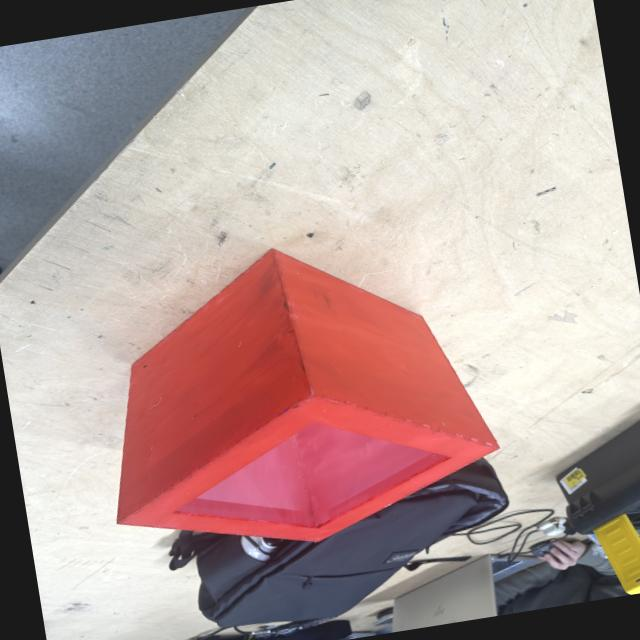red_bin: (78, 217, 511, 574)
